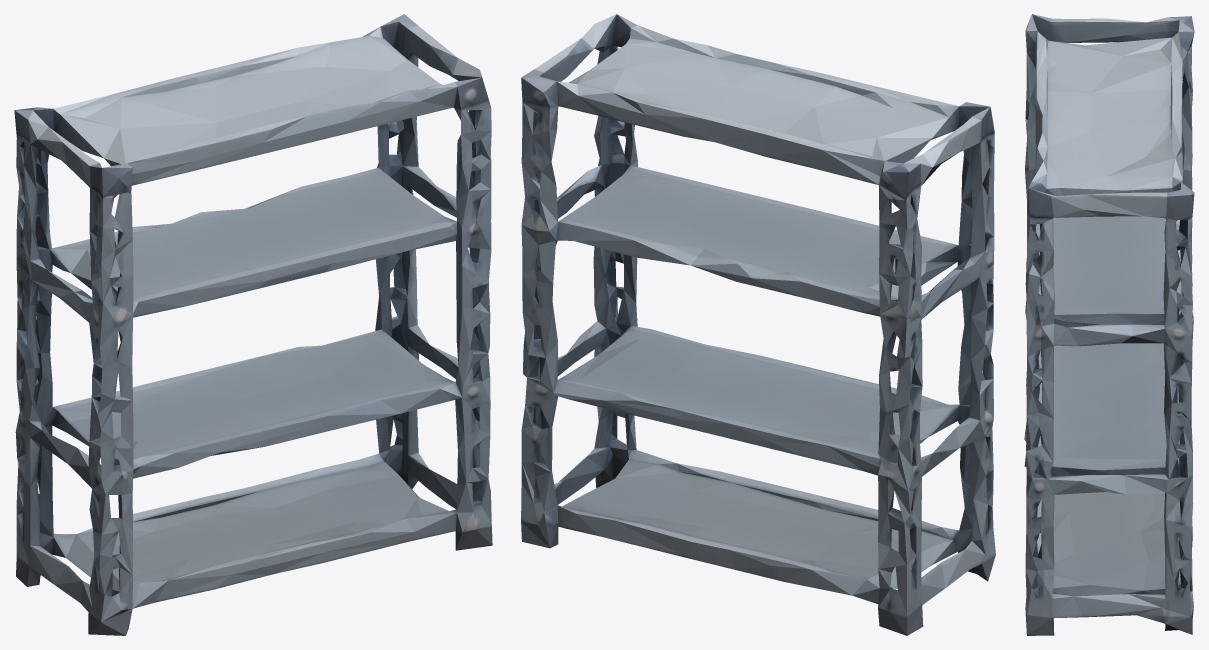
File: garage_shelf.glb
The picture shows the model from 3 angles, left to right: view 1: azimuth 30°, elevation 25°; view 2: azimuth 150°, elevation 25°; view 3: azimuth 270°, elevation 25°; orthographic projection. The views are drawn at different scales.
Parts seen in each view (by area): view 1: geometry_0; view 2: geometry_0; view 3: geometry_0.
Boxes of the visible parts, x1,y1,x2,y2 form: geometry_0: [14, 14, 492, 635]; geometry_0: [521, 14, 995, 635]; geometry_0: [1024, 14, 1194, 635].
Size of the model in its own units: 0.8834 by 1.01 by 0.3494.
1 material, 1 textured.
